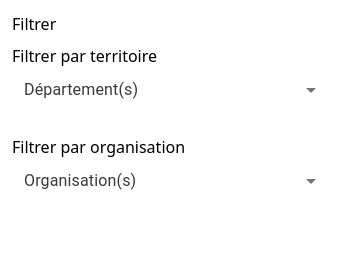
Test: TeamsFilters › shows 'aucune organisation trouvée' when no orgs available
Click the dropdown with placeholder "Organisation(s)" at (156, 180), box [20,159,293,202]
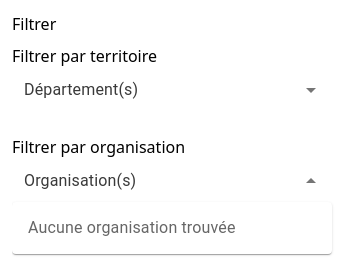
Result: the text "Aucune organisation trouvée" is shown at [28,218,236,237]
